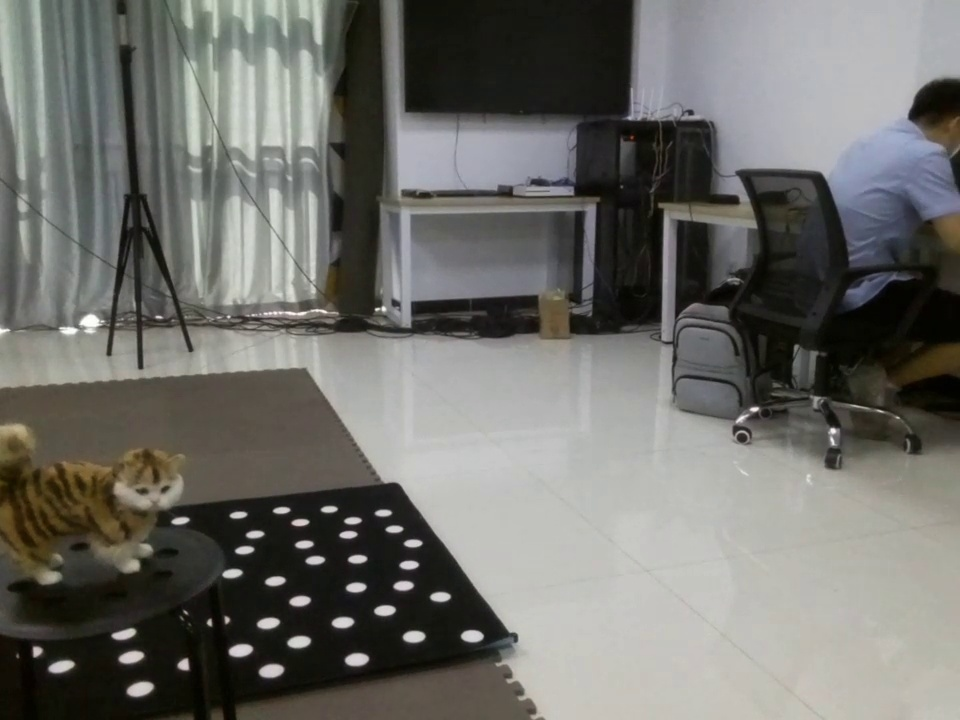cat: (1, 424, 204, 578)
